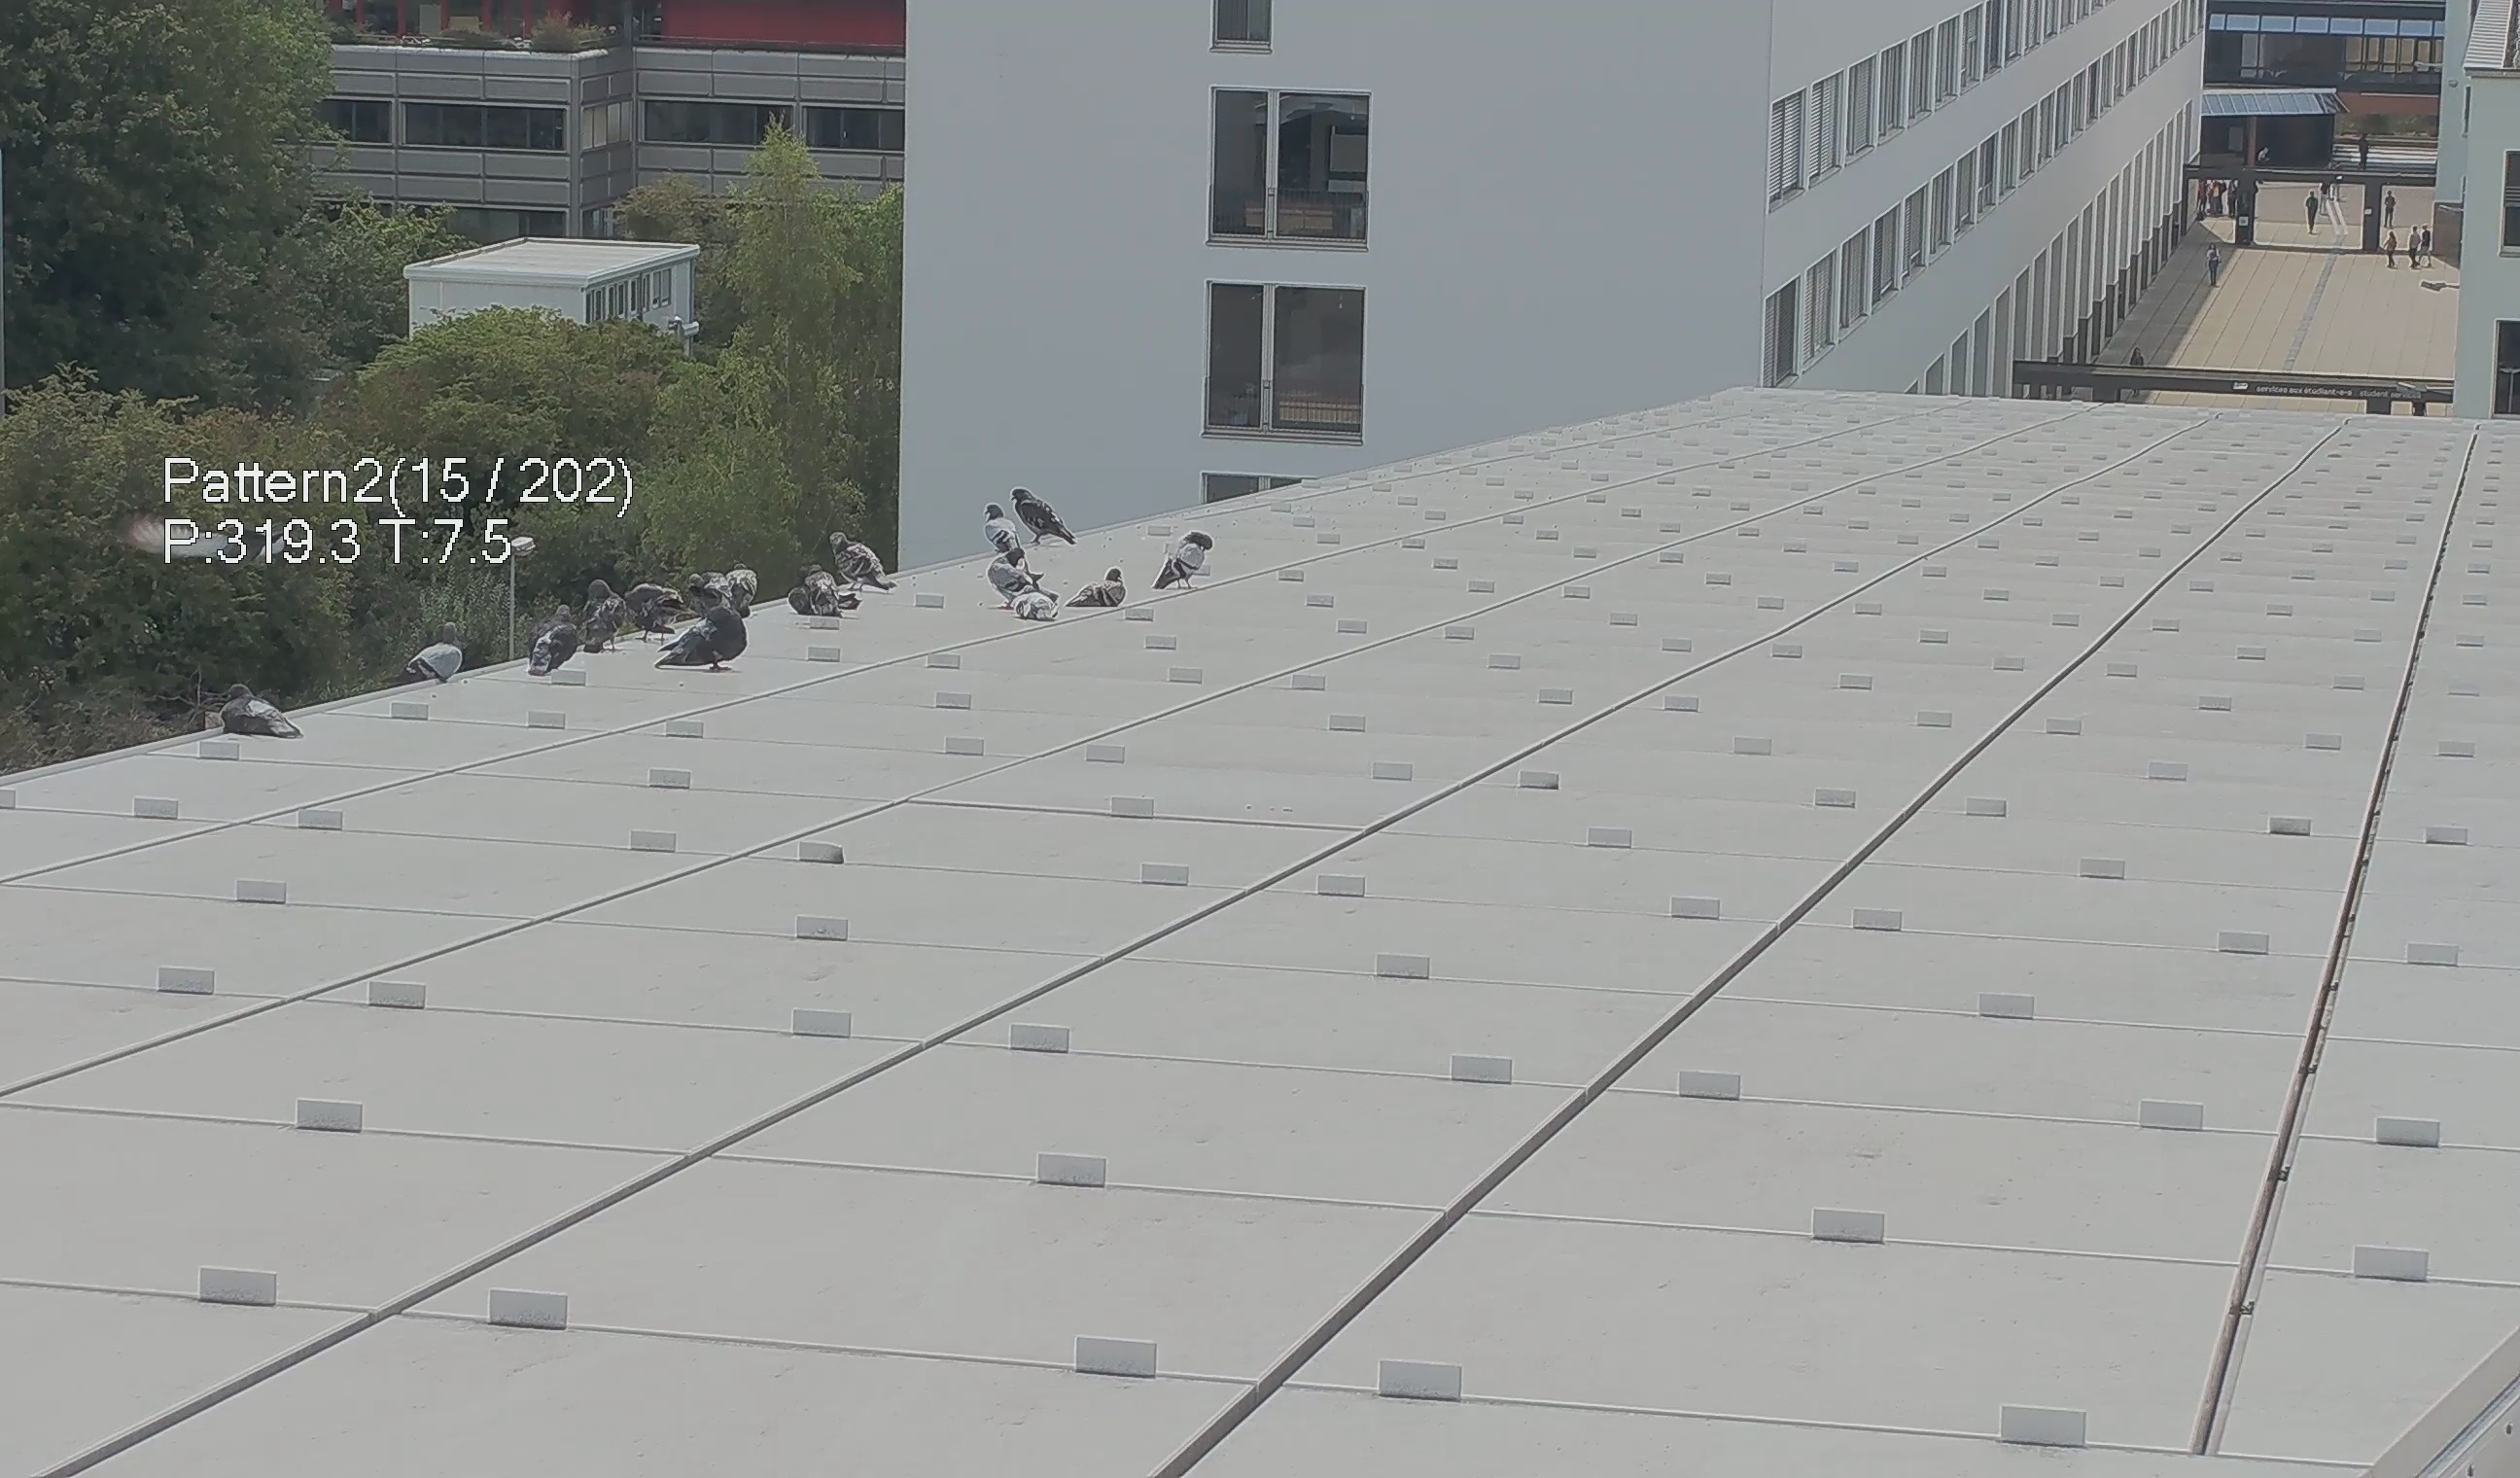Pigeon: (642, 565, 756, 672), (990, 482, 1082, 556), (209, 672, 302, 743), (392, 625, 473, 704), (1141, 528, 1224, 602), (577, 575, 668, 637), (825, 530, 907, 596), (781, 570, 862, 626), (531, 604, 580, 684), (980, 503, 1029, 572), (1004, 575, 1062, 623), (1066, 568, 1129, 611)
